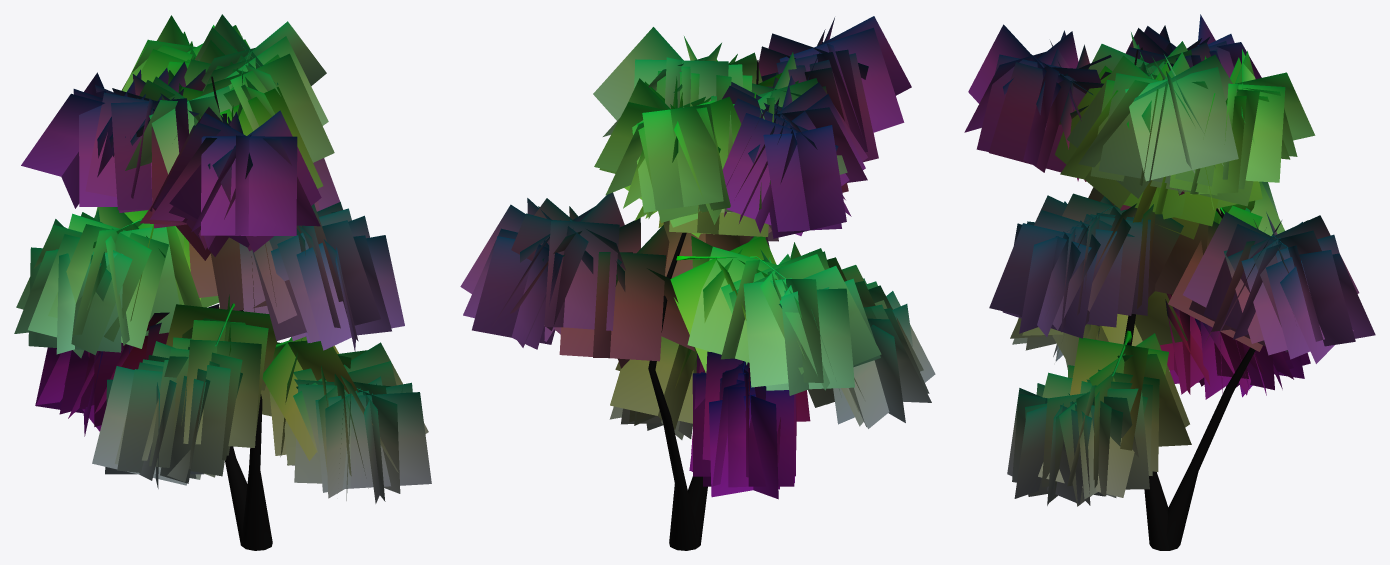
File: URP_P13_Tree_5_LOD_2.fbx
The picture shows the model from 3 angles, left to right: view 1: azimuth 30°, elevation 25°; view 2: azimuth 150°, elevation 25°; view 3: azimuth 270°, elevation 25°; orthographic projection. The views are drawn at different scales.
Visible parts, largest first — view 1: Tree_5_LOD_2; view 2: Tree_5_LOD_2; view 3: Tree_5_LOD_2.
Boxes of the visible parts, x1,y1,x2,y2 form: Tree_5_LOD_2: [14, 14, 431, 550]; Tree_5_LOD_2: [460, 16, 935, 550]; Tree_5_LOD_2: [964, 14, 1375, 550].
Bounding box in the file's own units: 425 × 586 × 447.
